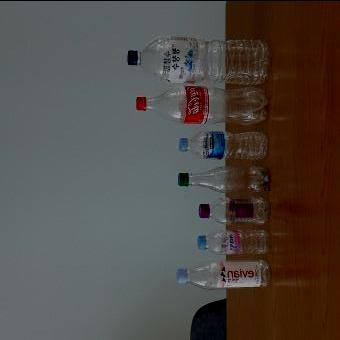bottle: (128, 36, 274, 84), (136, 84, 268, 126), (174, 256, 274, 296), (178, 129, 269, 160), (178, 163, 270, 192), (198, 224, 268, 252), (199, 192, 270, 219)
